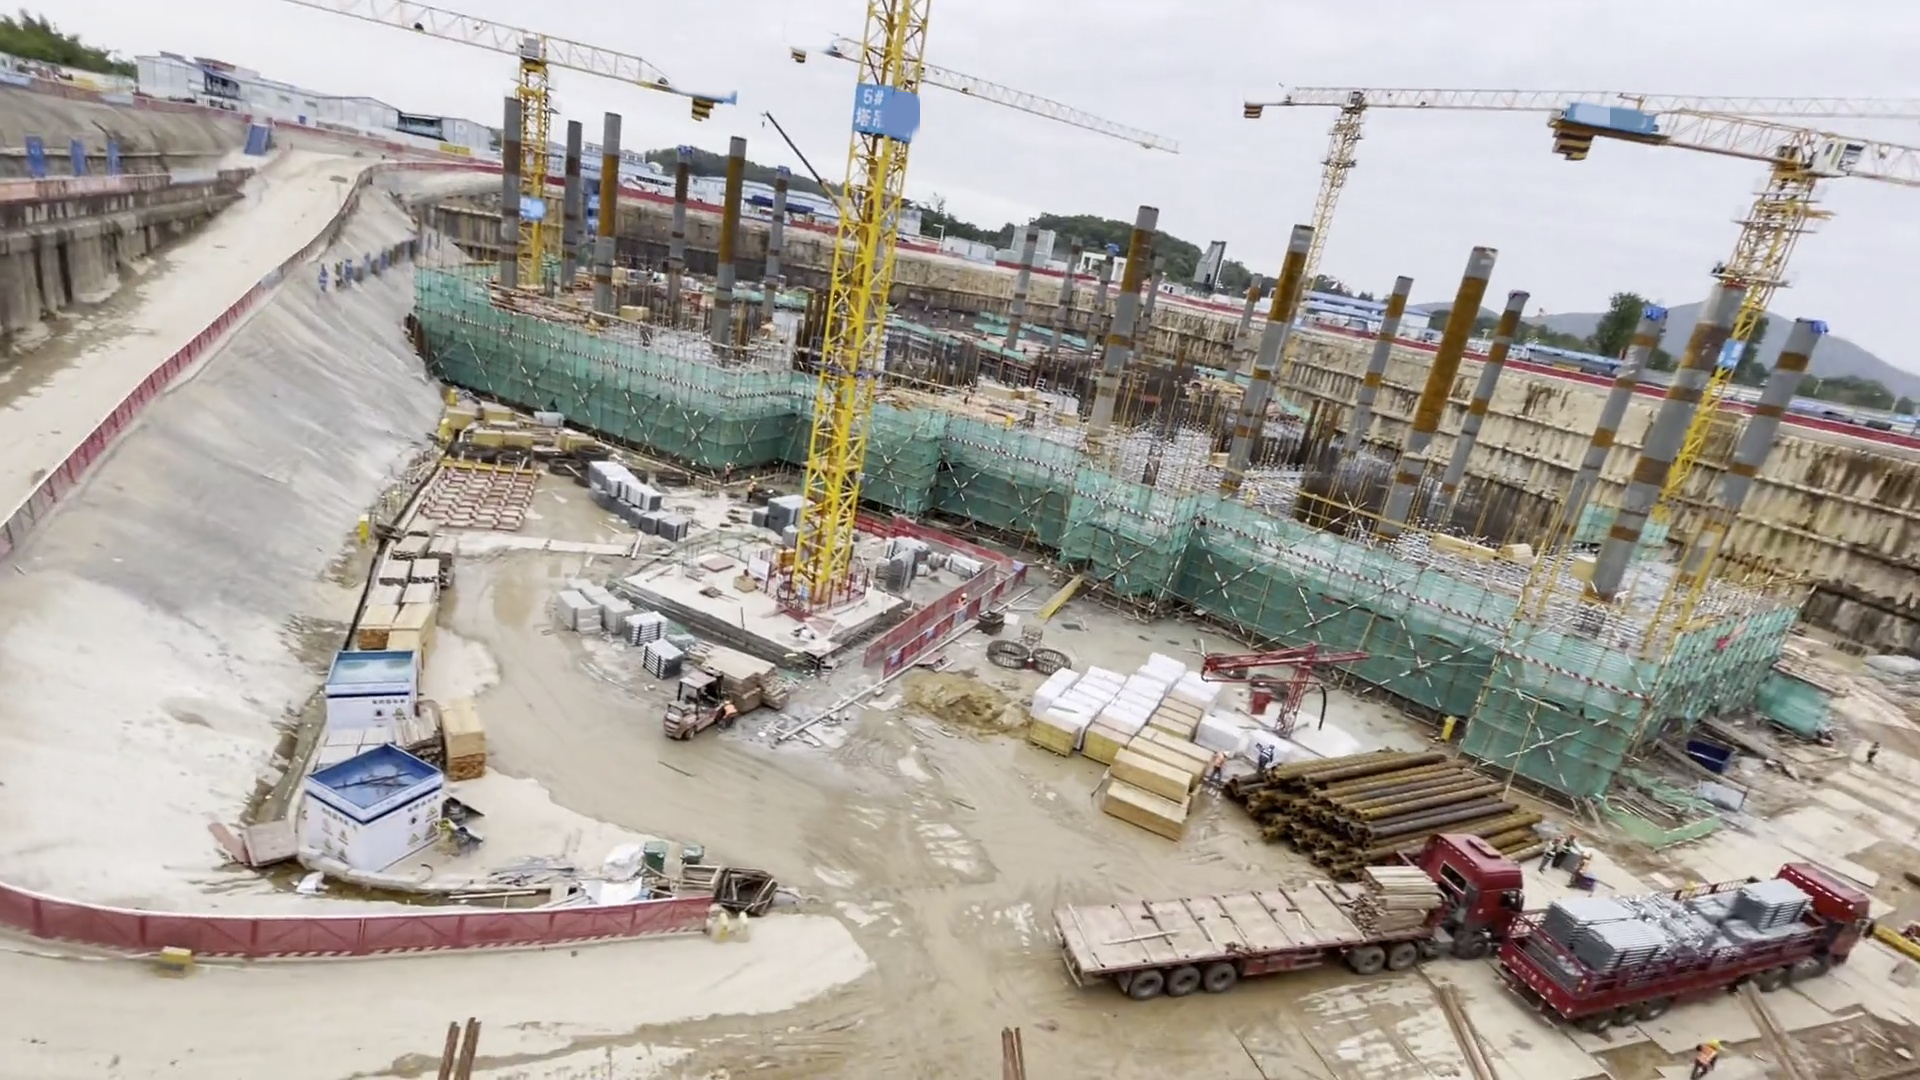board: (1154, 681, 1202, 739), (1032, 708, 1082, 756), (473, 419, 540, 451), (1086, 710, 1132, 757), (442, 400, 479, 431), (480, 398, 518, 422)
fence: (26, 886, 715, 947)
helmet: (1709, 1039, 1721, 1050), (1222, 748, 1230, 759), (960, 591, 968, 600), (1554, 835, 1561, 844), (1568, 832, 1577, 840), (723, 698, 731, 704), (1270, 744, 1276, 752), (725, 461, 731, 467)
person: (1694, 1031, 1721, 1079), (1556, 825, 1578, 873), (1257, 741, 1281, 771), (1214, 747, 1231, 786), (720, 697, 737, 733), (1576, 849, 1592, 888), (1544, 835, 1559, 876), (719, 460, 739, 487), (746, 473, 759, 503), (955, 591, 971, 611)
scaffold: (1543, 895, 1669, 970), (1734, 878, 1813, 934), (645, 642, 685, 679), (626, 613, 668, 645)
vest: (1579, 859, 1591, 877), (724, 706, 737, 717), (1262, 749, 1273, 759)
wood: (1122, 744, 1212, 836), (440, 704, 489, 781), (716, 647, 778, 690)
